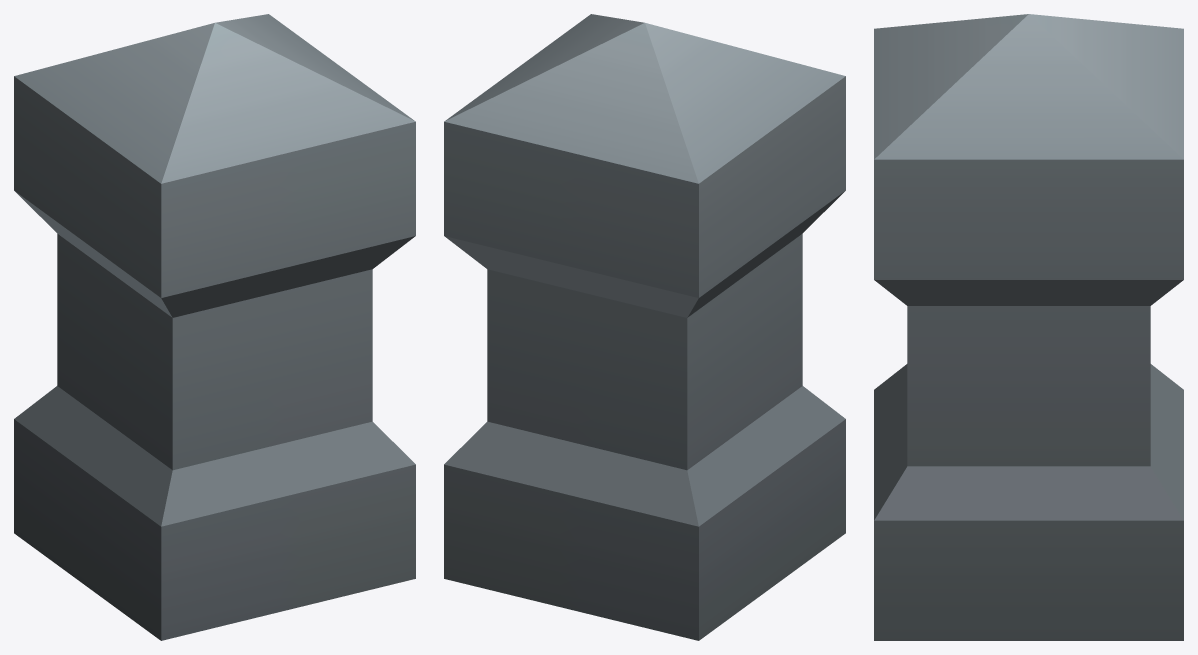
Rendered from d_kaykit_colonne.glb.
3 renders of one model, left to right at view 1: azimuth 30°, elevation 25°; view 2: azimuth 150°, elevation 25°; view 3: azimuth 270°, elevation 25°, orthographic. The views are drawn at different scales.
Visible parts, largest first — view 1: d_kaykit_colonne; view 2: d_kaykit_colonne; view 3: d_kaykit_colonne.
Boxes of the visible parts, box(x1,y1,x2,y2) form: d_kaykit_colonne: box(14, 14, 415, 640); d_kaykit_colonne: box(444, 14, 845, 640); d_kaykit_colonne: box(874, 14, 1183, 640).
Size of the model in its own units: 0.7001 by 1.4 by 0.7001.
Materials: 1 (1 with a texture image).
